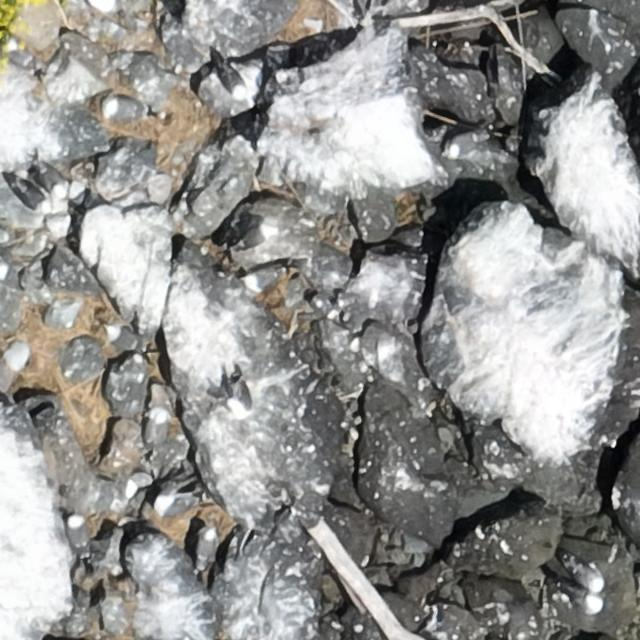umineko: (154, 473, 196, 518), (554, 579, 603, 615), (31, 155, 69, 198), (445, 127, 497, 157), (236, 222, 279, 254), (226, 371, 252, 422), (103, 326, 148, 353), (17, 184, 48, 210), (105, 98, 145, 118), (196, 529, 217, 567), (246, 268, 280, 290), (66, 515, 86, 549), (576, 567, 602, 593), (222, 69, 246, 97)
